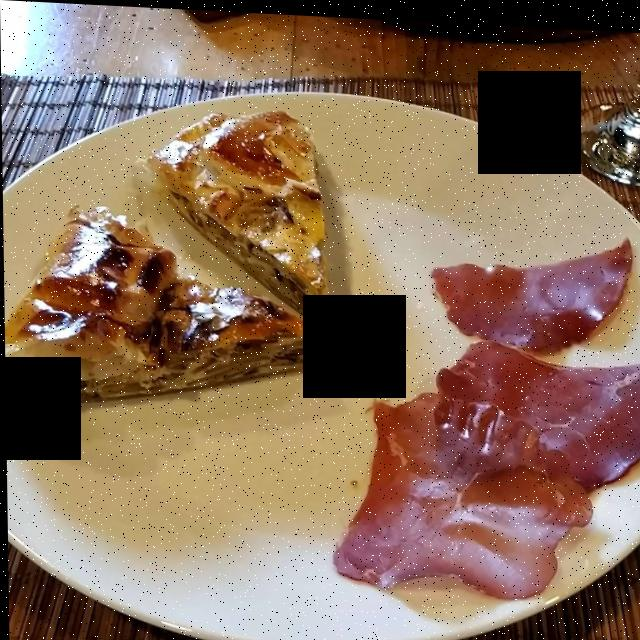dried-meat: (363, 244, 632, 592)
savoury-puff-pastry: (21, 103, 328, 400)
